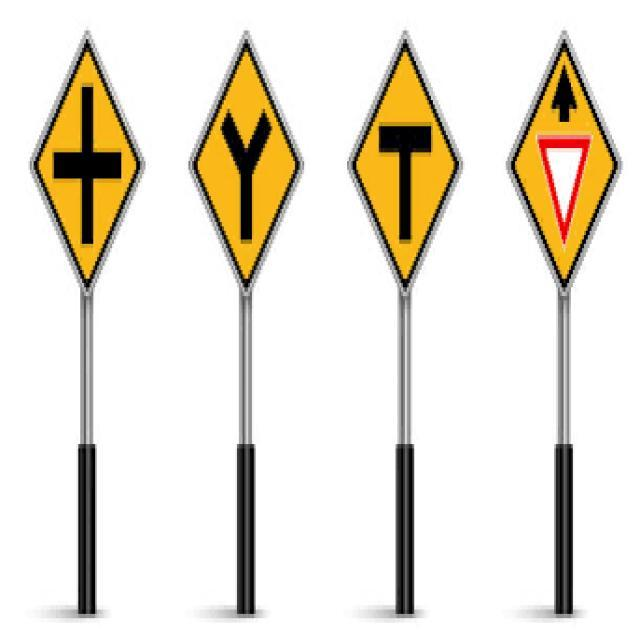t intersection: (344, 32, 467, 307)
